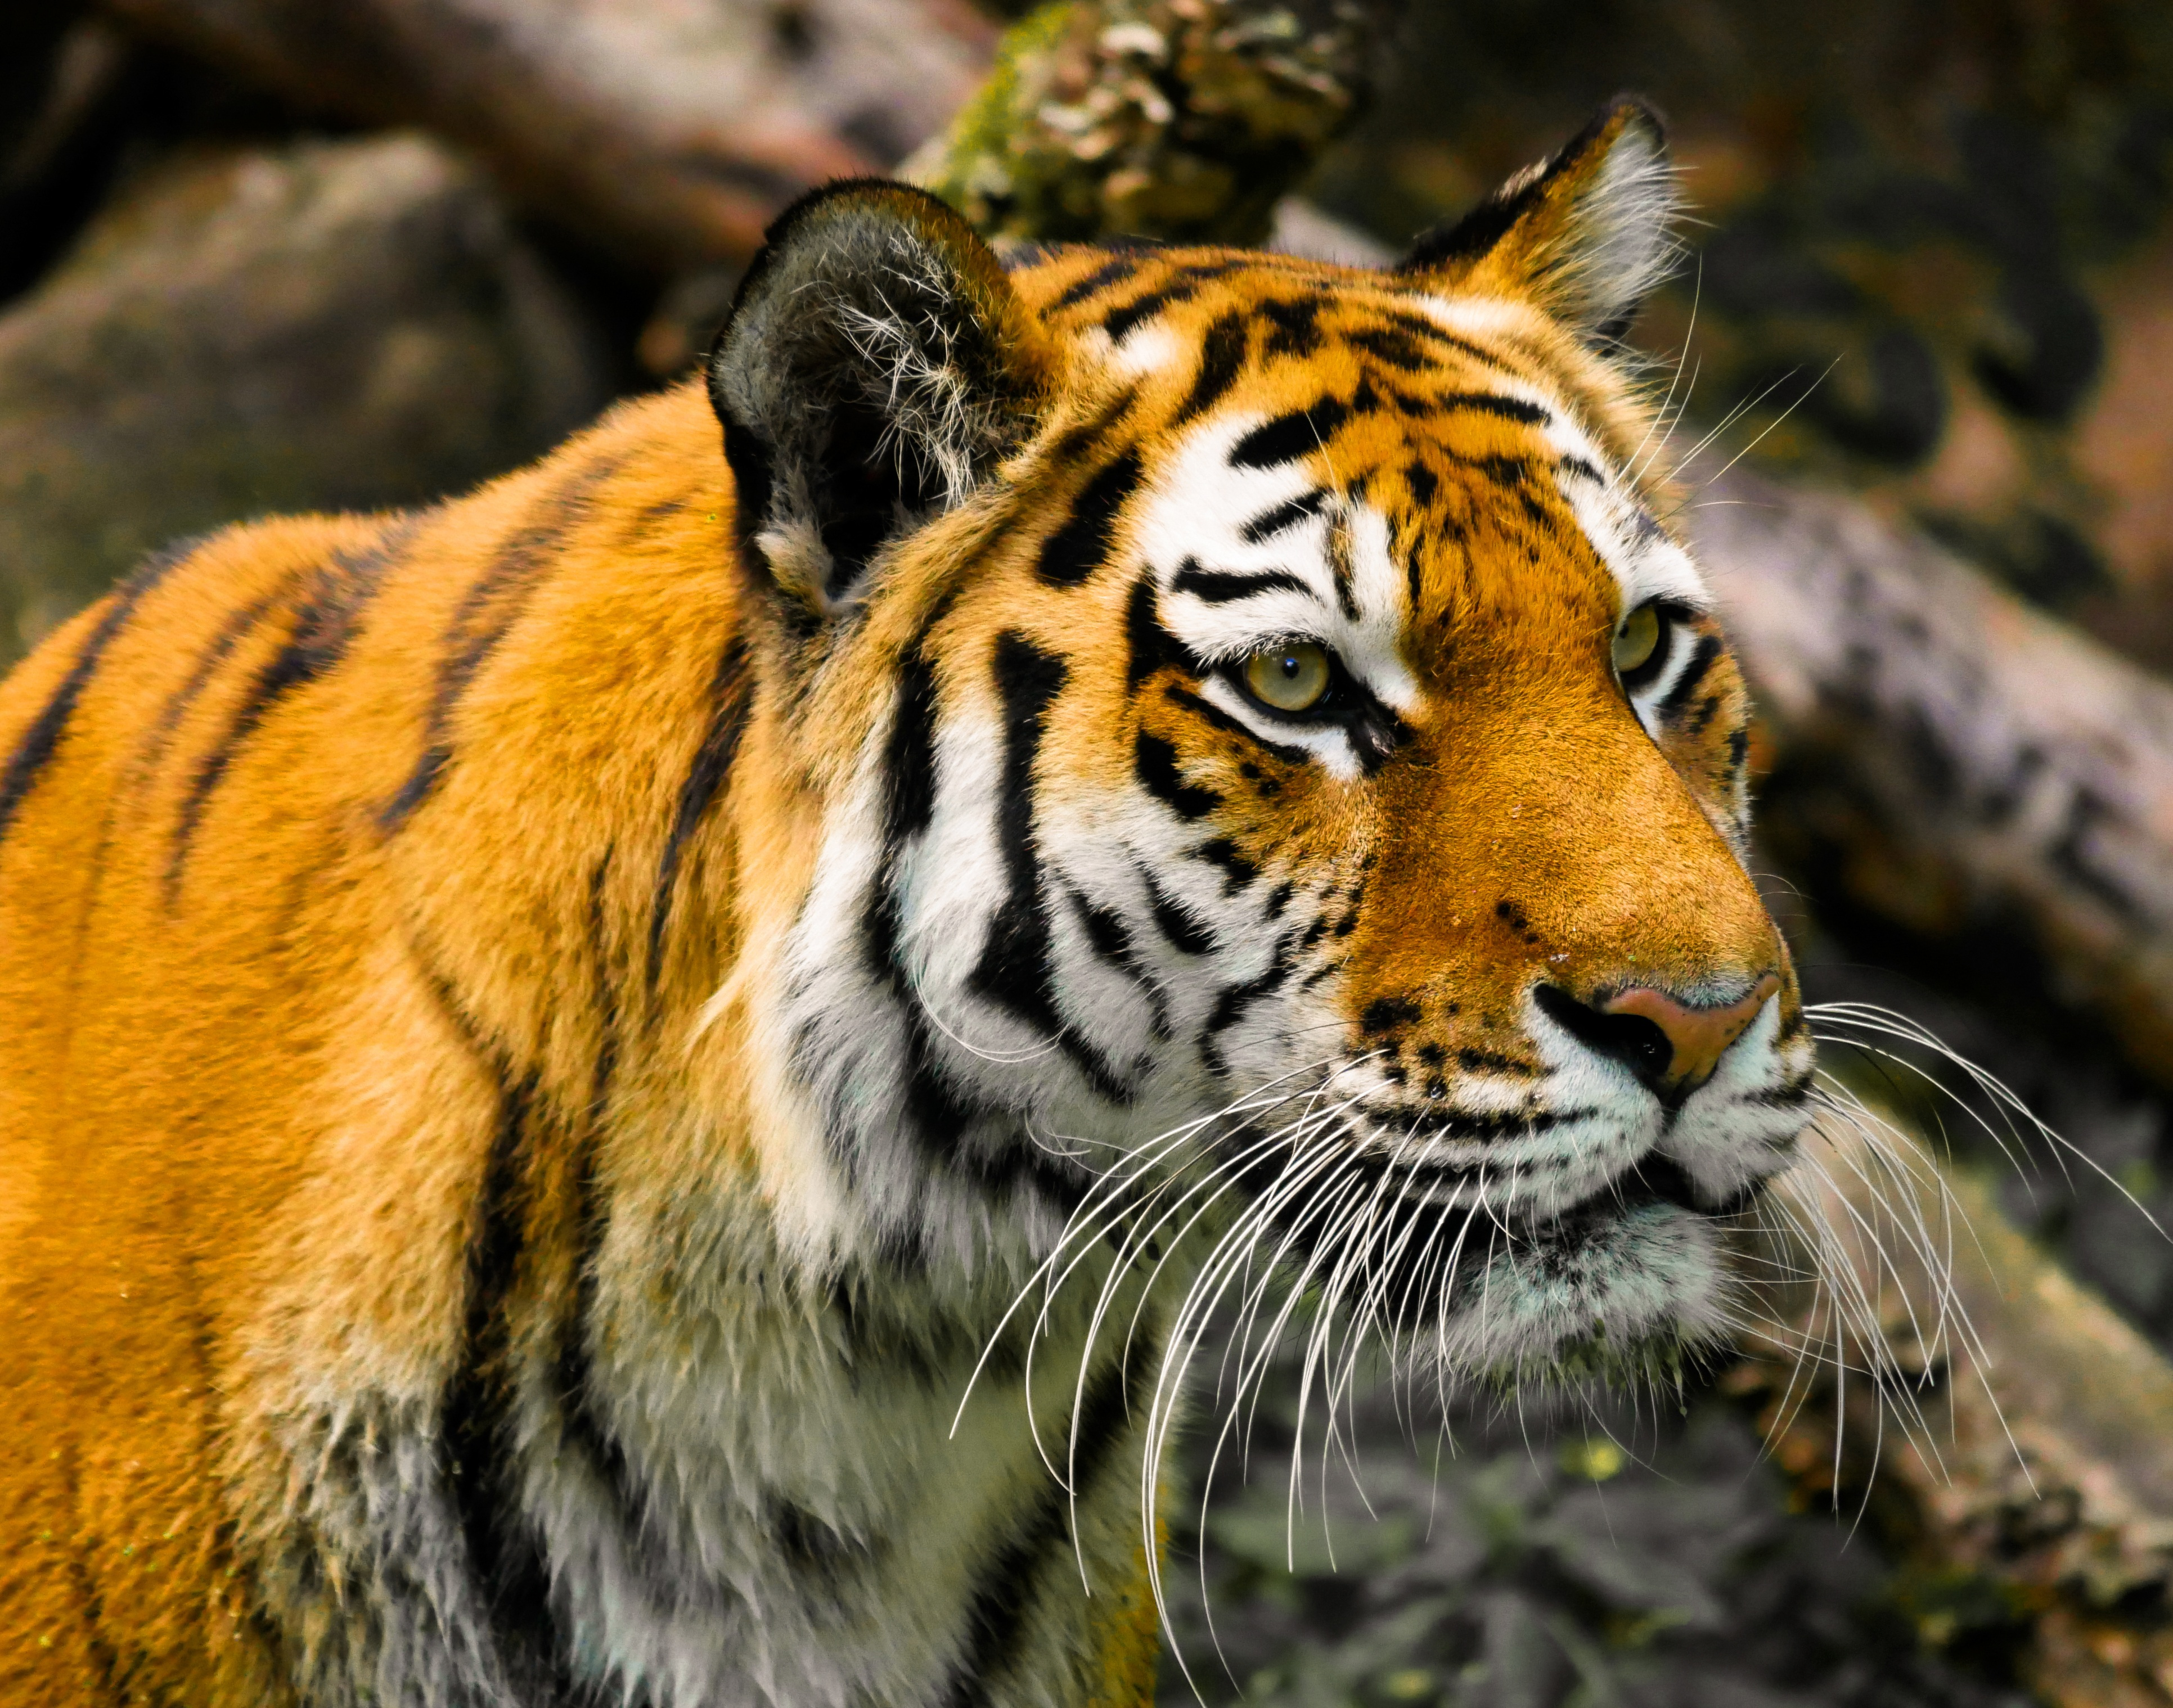tiger: (123, 171, 1843, 1574)
